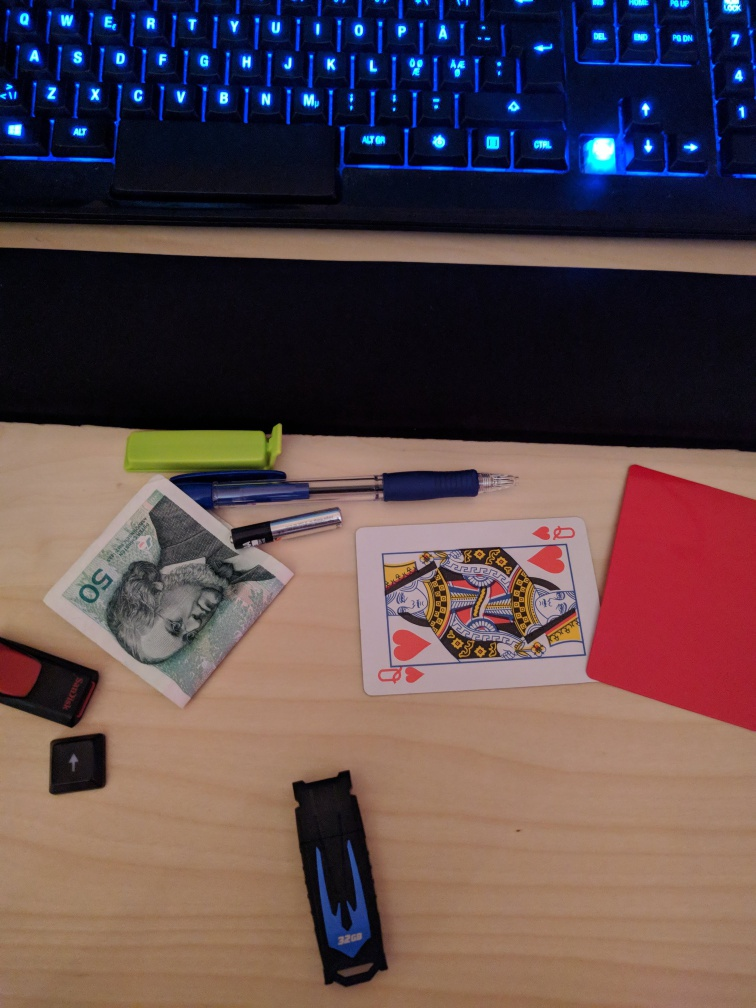queen: (353, 516, 605, 697)
